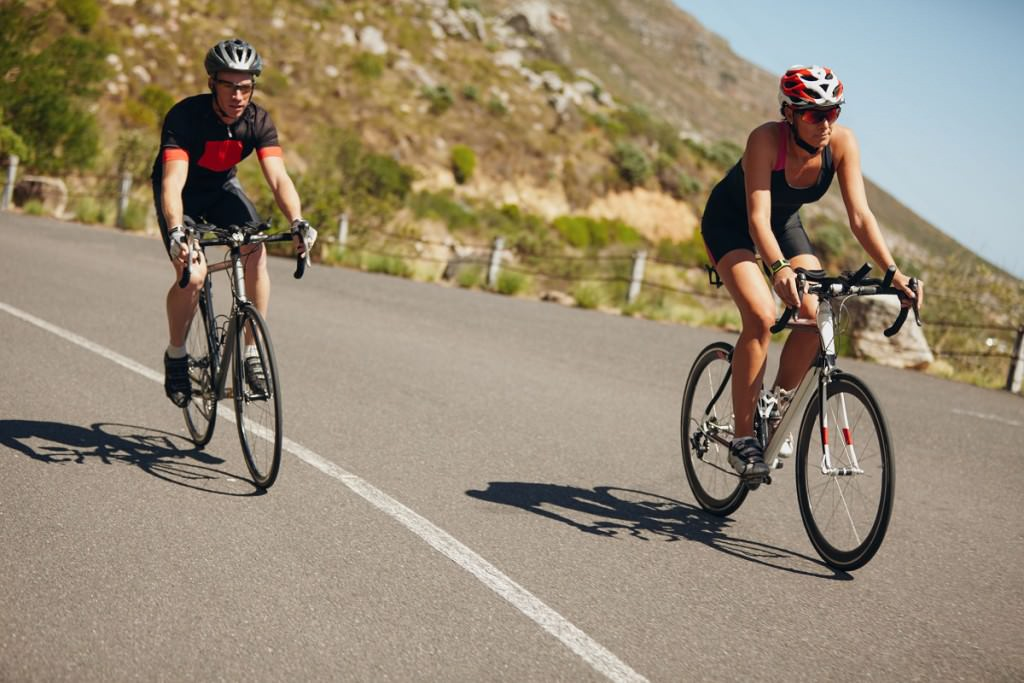helmet: (778, 60, 842, 111), (202, 35, 261, 78)
